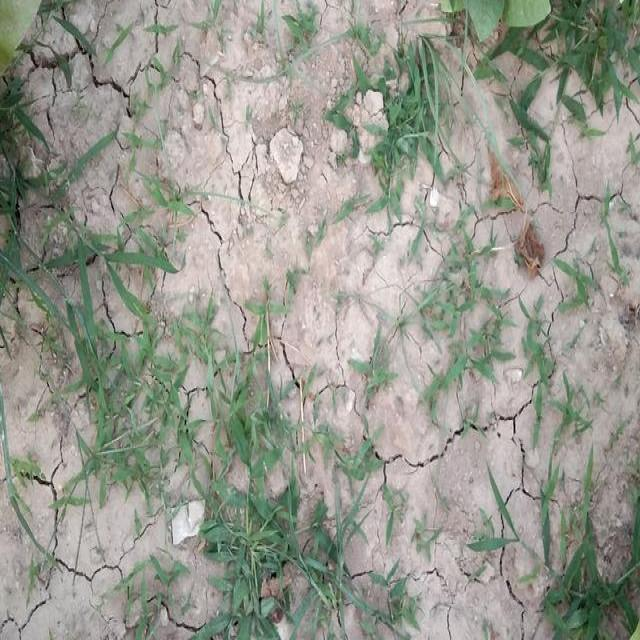weed: (16, 74, 160, 444), (481, 465, 640, 640), (502, 0, 631, 177), (413, 264, 552, 404), (210, 470, 308, 640), (186, 321, 288, 468), (310, 523, 414, 640), (374, 43, 464, 172), (318, 430, 387, 500)
